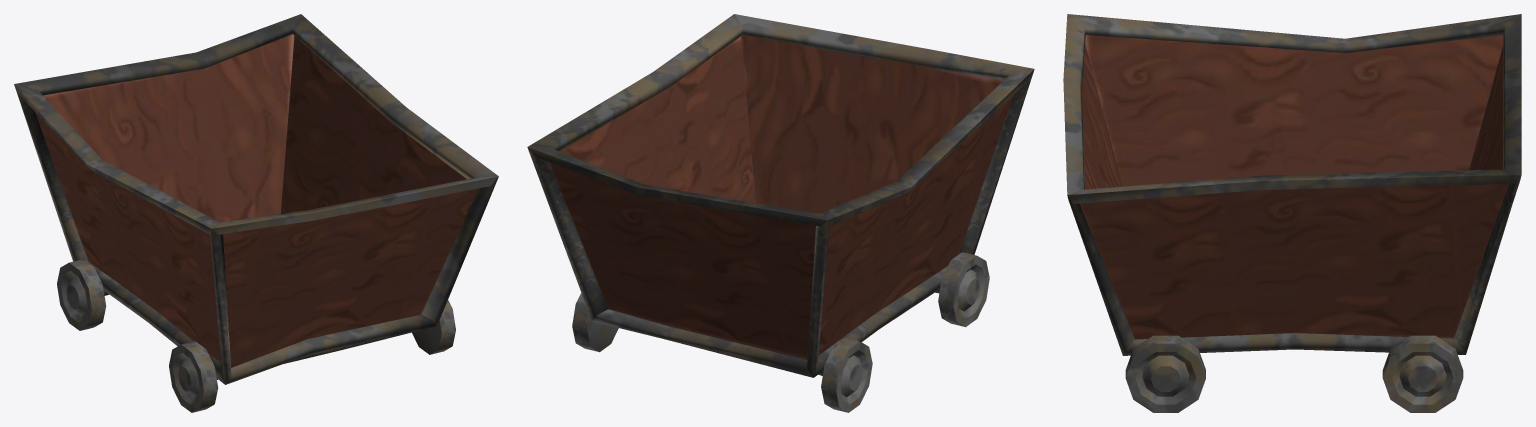
The model's file is CarrinhoMina.fbx.
The picture shows the model from 3 angles, left to right: view 1: azimuth 30°, elevation 25°; view 2: azimuth 150°, elevation 25°; view 3: azimuth 270°, elevation 25°; orthographic projection. The views are drawn at different scales.
Parts seen in each view (by area): view 1: CarrinhoMina; view 2: CarrinhoMina; view 3: CarrinhoMina.
Part boxes in pixels (bbox=[...]): CarrinhoMina: bbox=[14, 14, 498, 412]; CarrinhoMina: bbox=[527, 14, 1034, 412]; CarrinhoMina: bbox=[1063, 14, 1521, 412].
Size of the model in its own units: 208 by 147 by 247.
